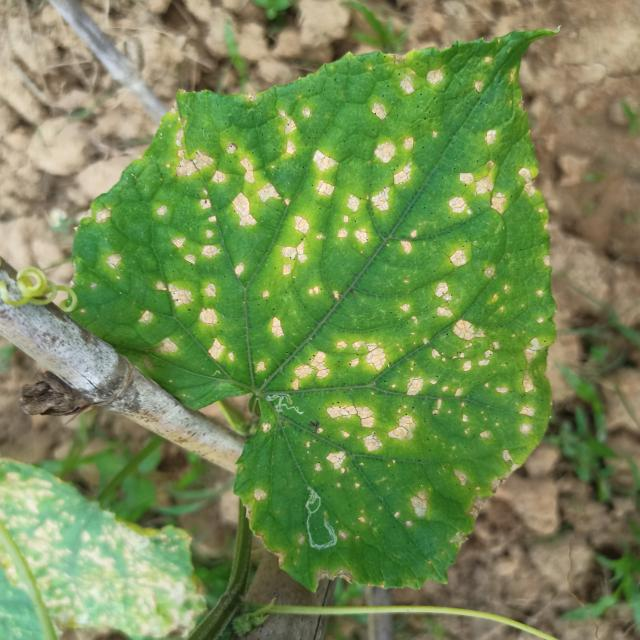disease_cucumber: (99, 56, 552, 559)
